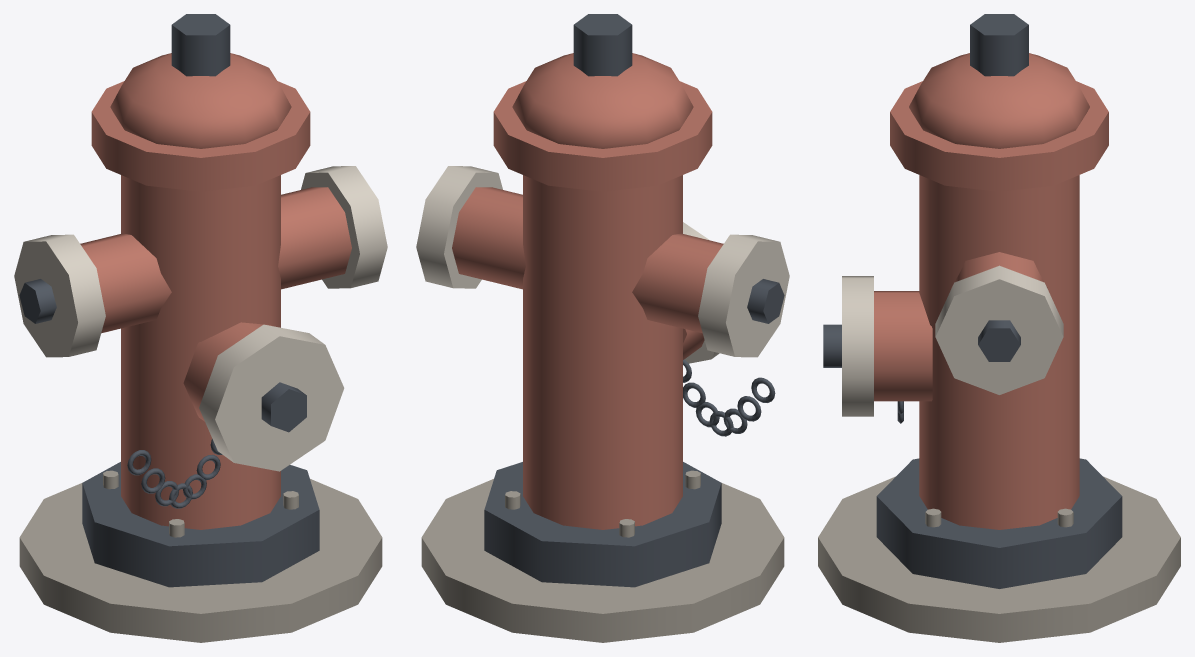
Rendered from komachi-fire-hydrant.glb.
3 views of the same model, side by side, from view 1: azimuth 30°, elevation 25°; view 2: azimuth 150°, elevation 25°; view 3: azimuth 270°, elevation 25° (orthographic).
Visible parts, largest first — view 1: Fire_Hydrant; view 2: Fire_Hydrant; view 3: Fire_Hydrant.
Part boxes in pixels (bbox=[...]): Fire_Hydrant: bbox=[14, 14, 387, 642]; Fire_Hydrant: bbox=[416, 14, 789, 642]; Fire_Hydrant: bbox=[818, 14, 1180, 642].
Bounding box in the file's own units: 0.148 × 0.224 × 0.136.
